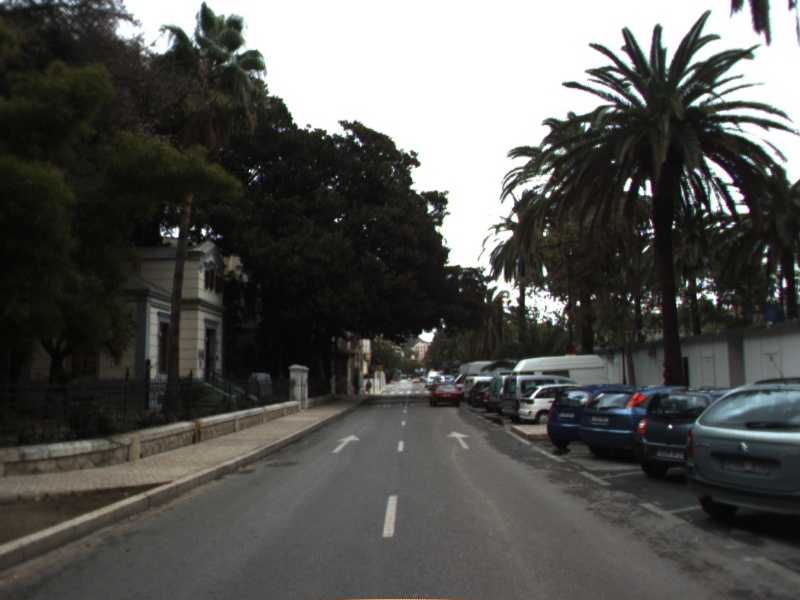STRAIGHT: (329, 432, 362, 455), (445, 429, 473, 451)
